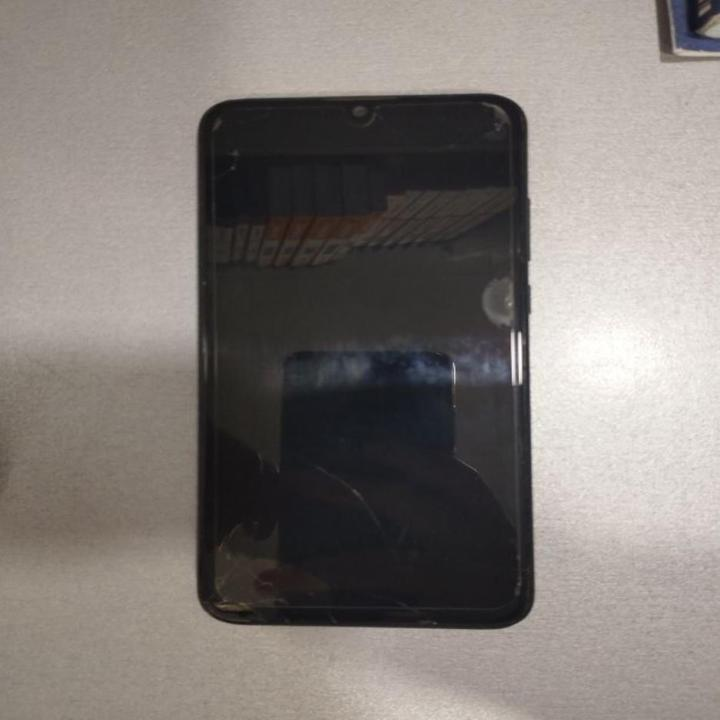Crack: (200, 535, 283, 636)
Scratches: (297, 445, 430, 548)
